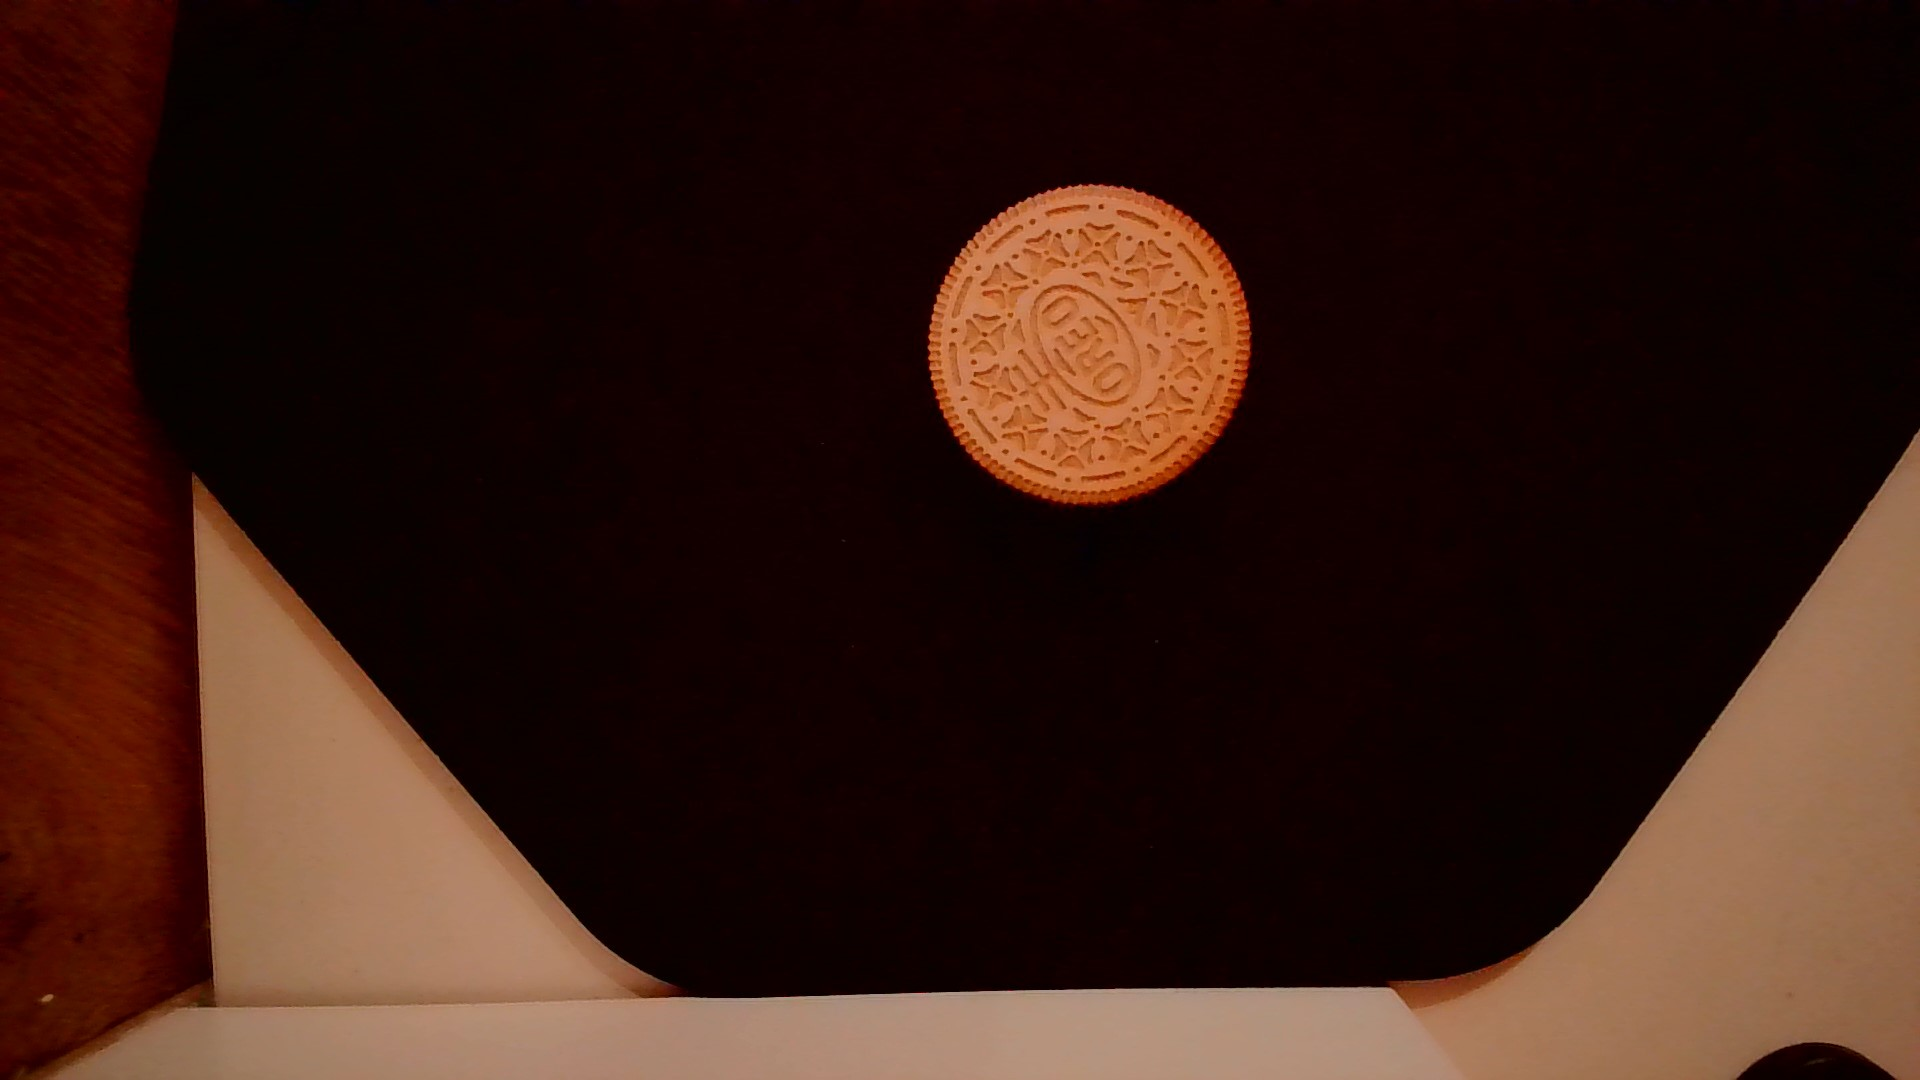Oréo: (915, 178, 1273, 518)
